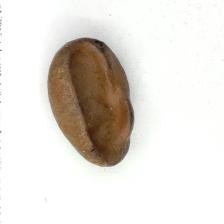NG: (67, 36, 134, 160)
